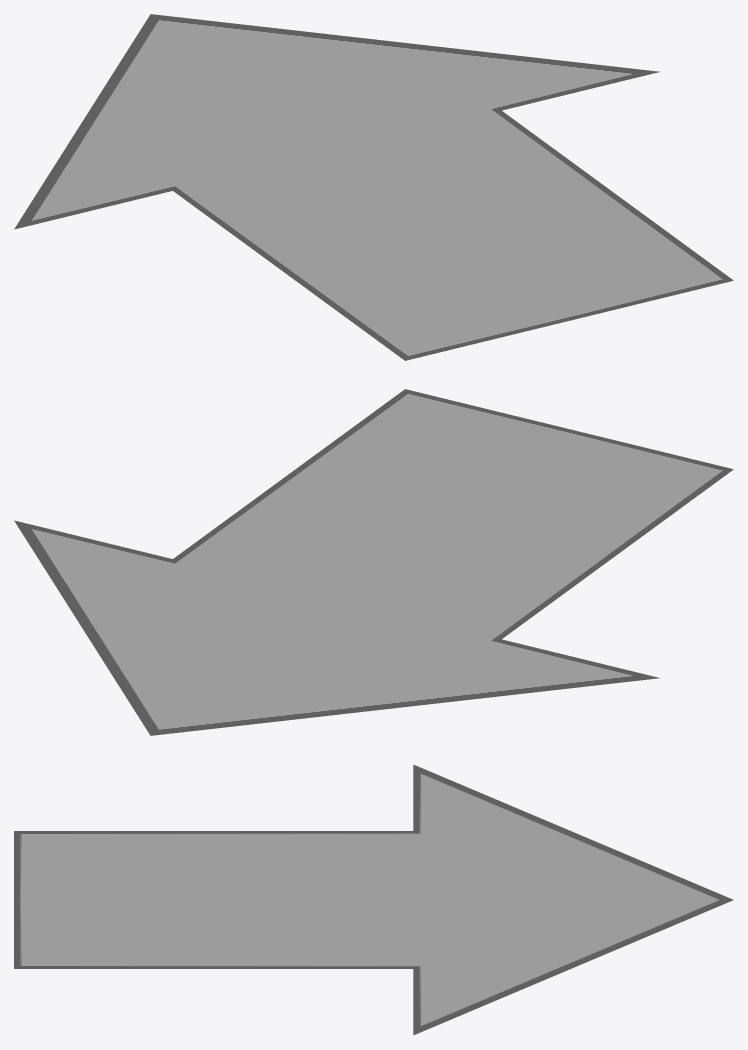
The model's file is arrow.obj.
3 views of the same model, one above another, from view 1: azimuth 30°, elevation 25°; view 2: azimuth 150°, elevation 25°; view 3: azimuth 270°, elevation 25° (orthographic). The views are drawn at different scales.
Visible parts, largest first — view 1: 立方体; view 2: 立方体; view 3: 立方体.
Part boxes in pixels (box(x1,y1,x2,y2)): 立方体: box(14, 14, 733, 360); 立方体: box(14, 389, 733, 735); 立方体: box(14, 764, 733, 1035).
Bounding box in the file's own units: 1.01 × 0.000106 × 1.14.
1 material, 1 textured.
